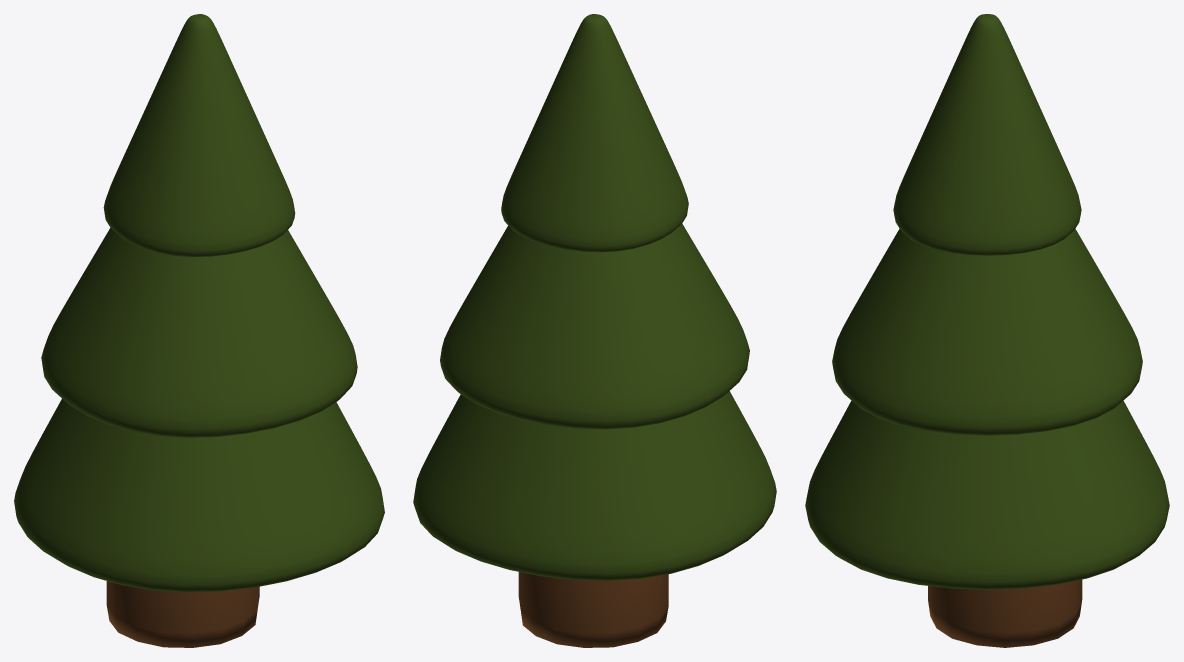
File: SM_Tanne.fbx
3 renders of one model, left to right at view 1: azimuth 30°, elevation 25°; view 2: azimuth 150°, elevation 25°; view 3: azimuth 270°, elevation 25°, orthographic. The views are drawn at different scales.
Visible parts, largest first — view 1: Tanne.001; view 2: Tanne.001; view 3: Tanne.001.
Part boxes in pixels (x1,y1,x2,y2): Tanne.001: [14, 14, 384, 647]; Tanne.001: [413, 14, 776, 647]; Tanne.001: [805, 14, 1169, 647].
Bounding box in the file's own units: 204 × 375 × 204.
